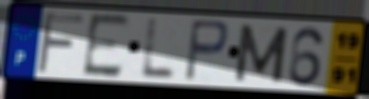6: (287, 24, 326, 89)
E: (80, 11, 133, 80)
F: (34, 9, 86, 76)
L: (138, 17, 177, 81)
M: (232, 22, 291, 85)
P: (182, 17, 231, 84)
